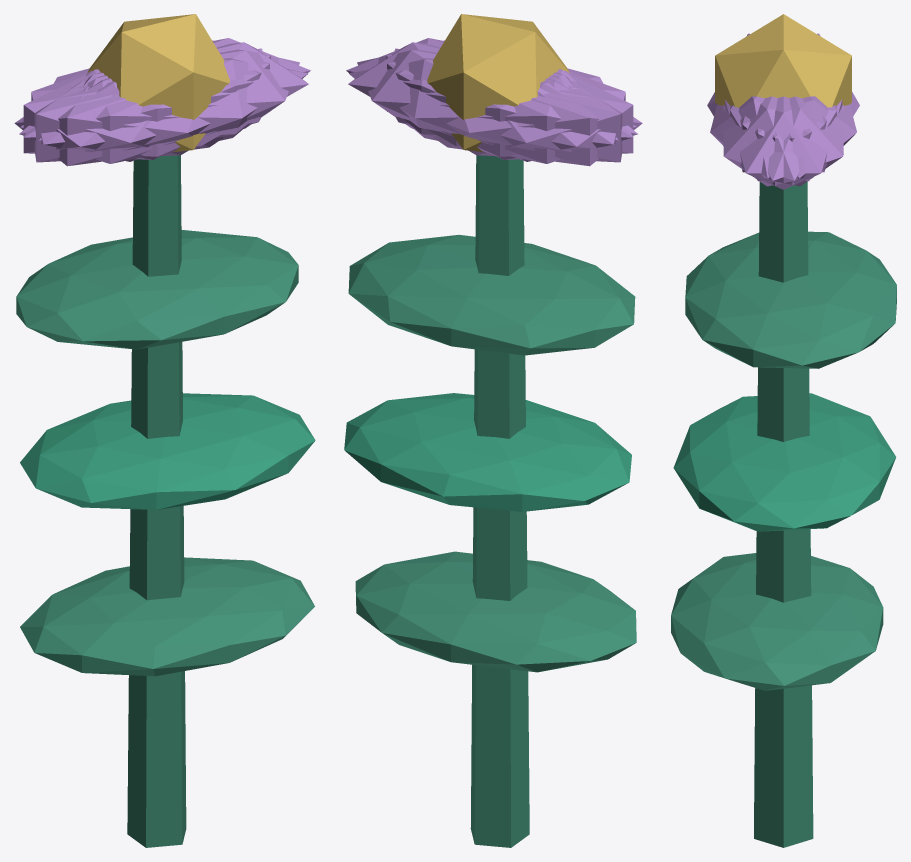
Rendered from syngonium-wendlandii.glb.
The picture shows the model from 3 angles, left to right: view 1: azimuth 30°, elevation 25°; view 2: azimuth 150°, elevation 25°; view 3: azimuth 270°, elevation 25°; orthographic projection.
Parts seen in each view (by area): view 1: stem, leaf1, leaf0, leaf2, center, petal1, petal6, petal2, petal5, petal7, petal0, petal4 (+2 smaller); view 2: stem, leaf2, leaf1, leaf0, center, petal8, petal3, petal7, petal4, petal2, petal0, petal5 (+2 smaller); view 3: stem, leaf1, leaf2, leaf0, center, petal0, petal5, petal4, petal8, petal1.
Boxes of the visible parts, left/top/right/bottom form: stem: left=127, top=155, right=186, bottom=847; leaf1: left=20, top=393, right=315, bottom=509; leaf0: left=20, top=557, right=314, bottom=676; leaf2: left=16, top=230, right=298, bottom=349; center: left=87, top=14, right=229, bottom=152; petal1: left=19, top=58, right=308, bottom=163; petal6: left=14, top=71, right=223, bottom=166; petal2: left=34, top=48, right=262, bottom=162; petal5: left=38, top=49, right=299, bottom=156; petal7: left=23, top=54, right=270, bottom=159; petal0: left=87, top=42, right=308, bottom=146; petal4: left=20, top=38, right=310, bottom=137; stem: left=470, top=155, right=529, bottom=847; leaf2: left=348, top=234, right=635, bottom=355; leaf1: left=344, top=393, right=631, bottom=511; leaf0: left=355, top=551, right=636, bottom=672; center: left=427, top=14, right=569, bottom=152; petal8: left=349, top=58, right=637, bottom=163; petal3: left=433, top=70, right=642, bottom=166; petal7: left=394, top=48, right=622, bottom=162; petal4: left=357, top=49, right=618, bottom=156; petal2: left=386, top=54, right=633, bottom=159; petal0: left=348, top=42, right=569, bottom=146; petal5: left=346, top=38, right=636, bottom=137; stem: left=754, top=181, right=813, bottom=847; leaf1: left=673, top=393, right=895, bottom=531; leaf2: left=685, top=231, right=896, bottom=368; leaf0: left=671, top=553, right=883, bottom=690; center: left=715, top=14, right=851, bottom=107; petal0: left=725, top=96, right=842, bottom=189; petal5: left=723, top=96, right=836, bottom=186; petal4: left=730, top=96, right=843, bottom=186; petal8: left=740, top=96, right=856, bottom=178; petal1: left=710, top=96, right=826, bottom=178.
Bounding box in the file's own units: 0.1452 × 0.3962 × 0.101.
